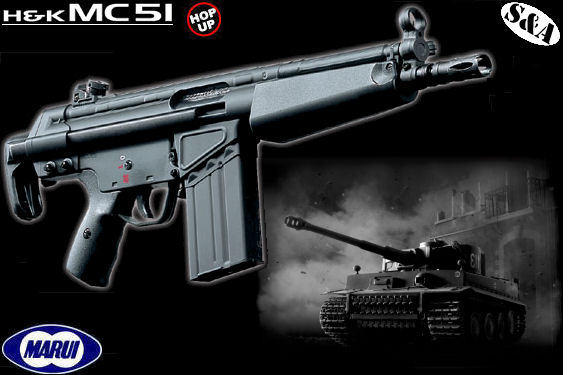rifle: (9, 23, 499, 297)
